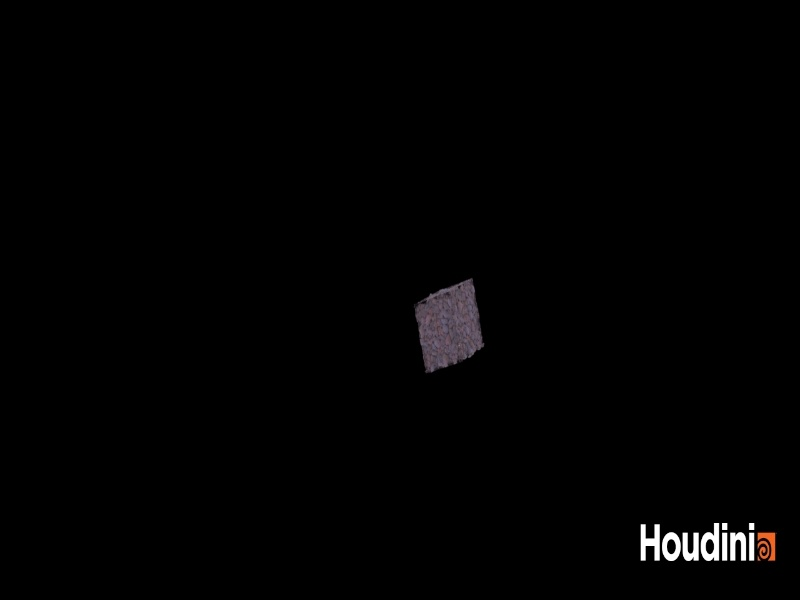waste: (401, 268, 496, 386)
